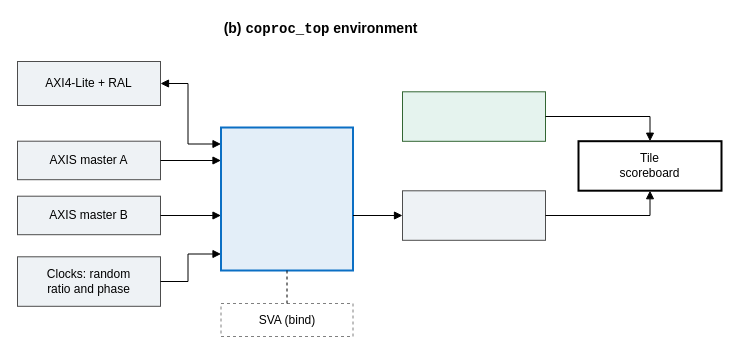
Image size: 740x354. Some labels were removed from this diagram. The centre of each missing label's shape, as x and y in pixels:
AXIS slave C random tready: the point at 474,215
coproc_top: the point at 287,198
numpy model C = A · B: the point at 474,116
